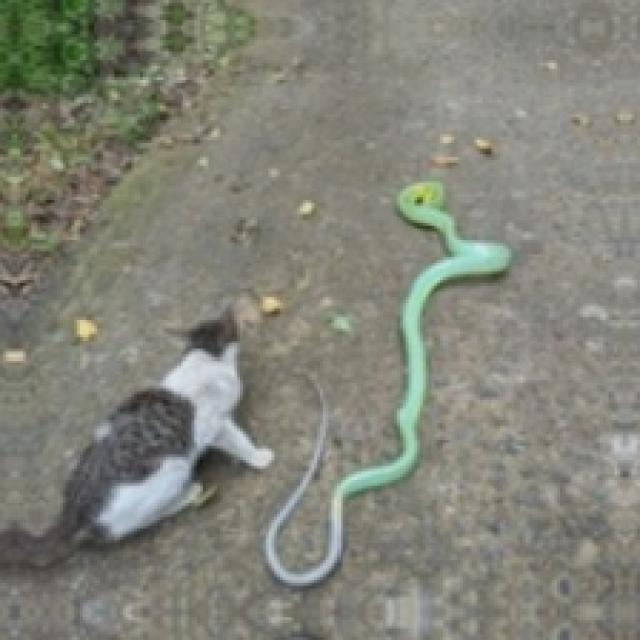red-tailed green ratsnake: (263, 180, 509, 586)
